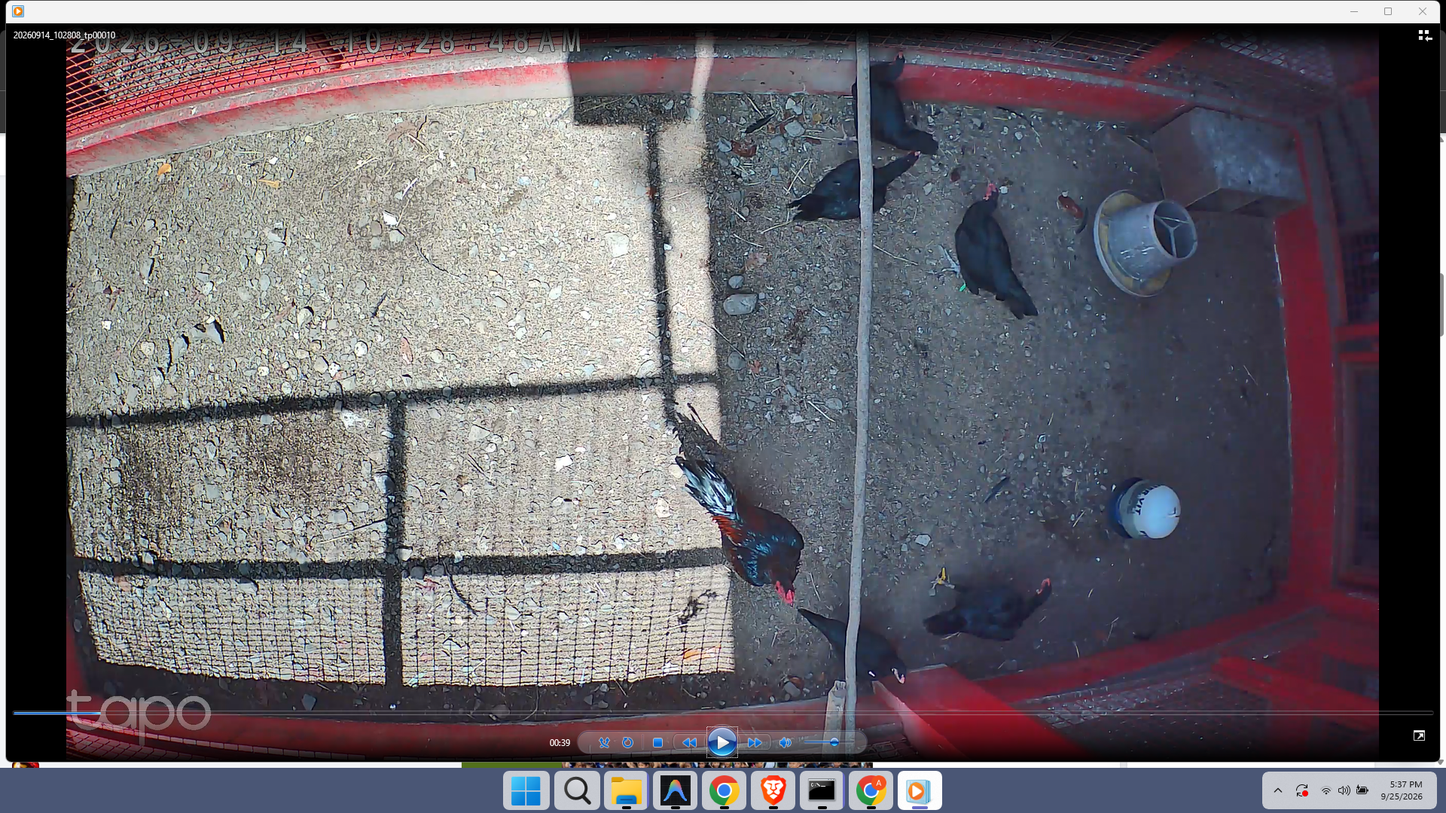Chicken: (943, 181, 1041, 323), (920, 565, 1070, 651), (832, 51, 942, 160), (787, 148, 921, 223), (796, 605, 910, 686)
Drinker: (1108, 477, 1181, 540)
Feeder: (1092, 189, 1200, 297)
Rooster: (673, 457, 809, 614)
